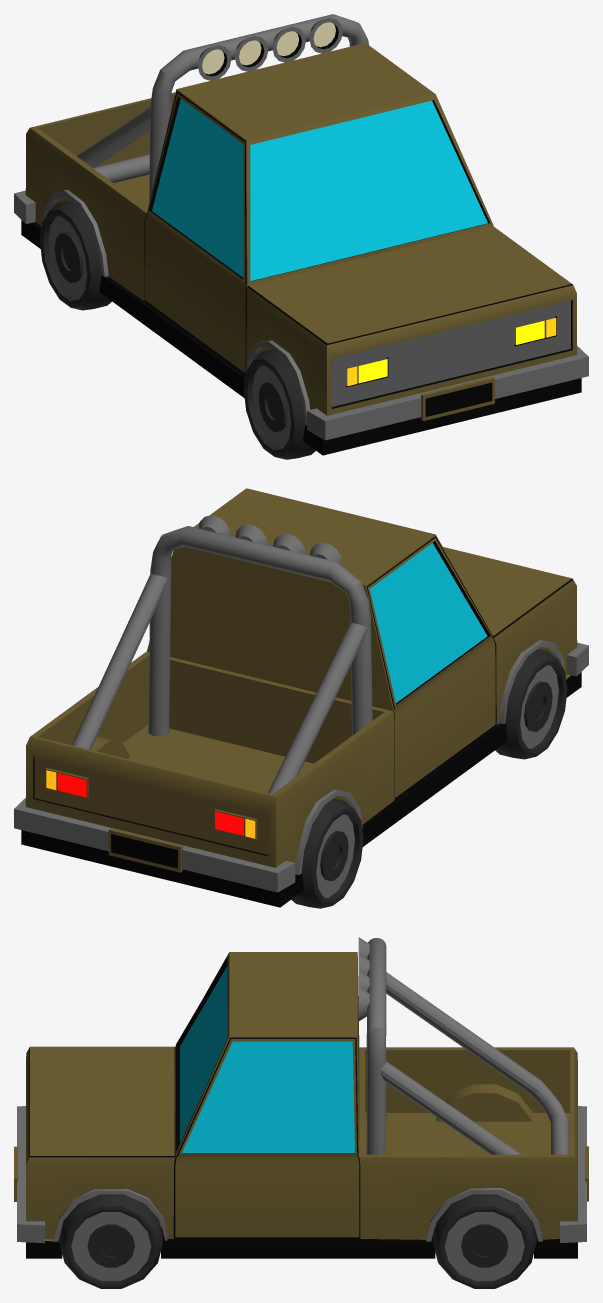
File: Ranchera.fbx
The picture shows the model from 3 angles, top to bottom: view 1: azimuth 30°, elevation 25°; view 2: azimuth 150°, elevation 25°; view 3: azimuth 270°, elevation 25°; orthographic projection. The views are drawn at different scales.
Visible parts, largest first — view 1: Cube, Cylinder.001, Cylinder.005; view 2: Cube, Cylinder.005, Cylinder.001; view 3: Cube, Cylinder.005, Cylinder.001.
Boxes of the visible parts, x1,y1,x2,y2 form: Cube: (14, 14, 588, 455); Cylinder.001: (39, 200, 111, 310); Cylinder.005: (243, 349, 315, 459); Cube: (14, 488, 588, 907); Cylinder.005: (495, 649, 567, 759); Cylinder.001: (291, 798, 363, 908); Cube: (14, 937, 588, 1258); Cylinder.005: (59, 1194, 162, 1288); Cylinder.001: (433, 1194, 536, 1288).
Bounding box in the file's own units: 305 × 312 × 605.
